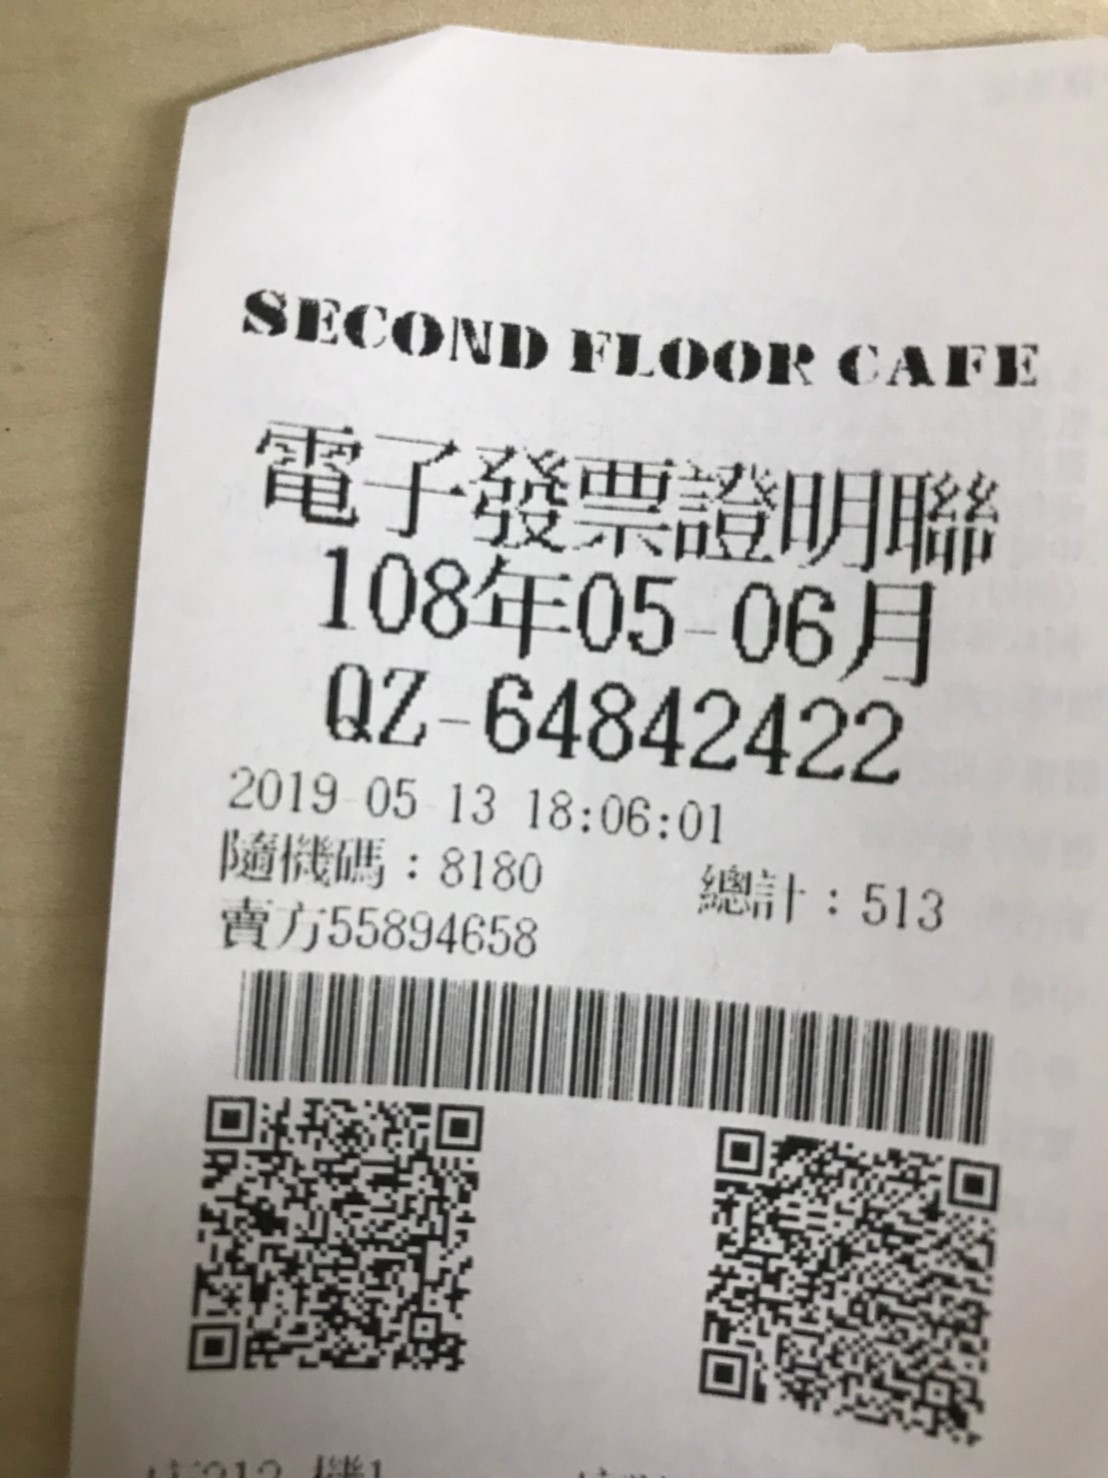Date_New: (318, 539, 940, 696)
Number_New: (475, 667, 905, 789)
